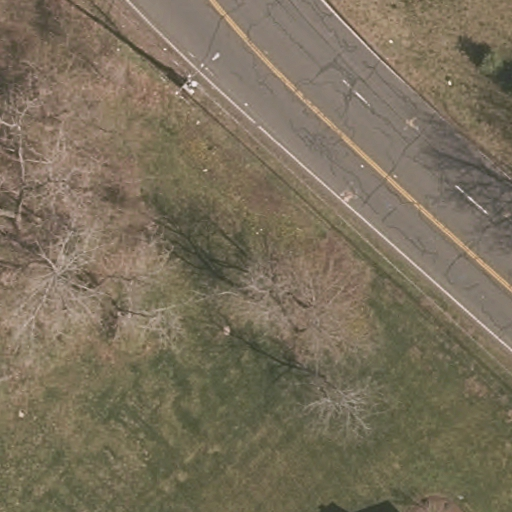DT: (165, 42, 222, 103)
